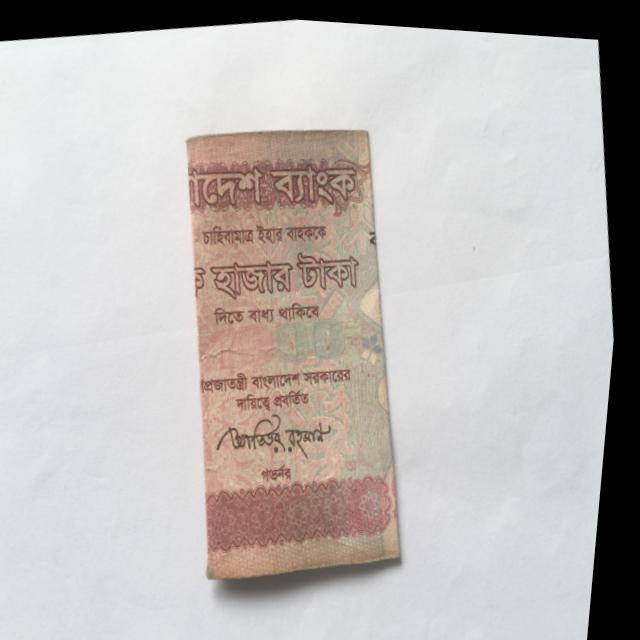Taka: (152, 95, 452, 590)
